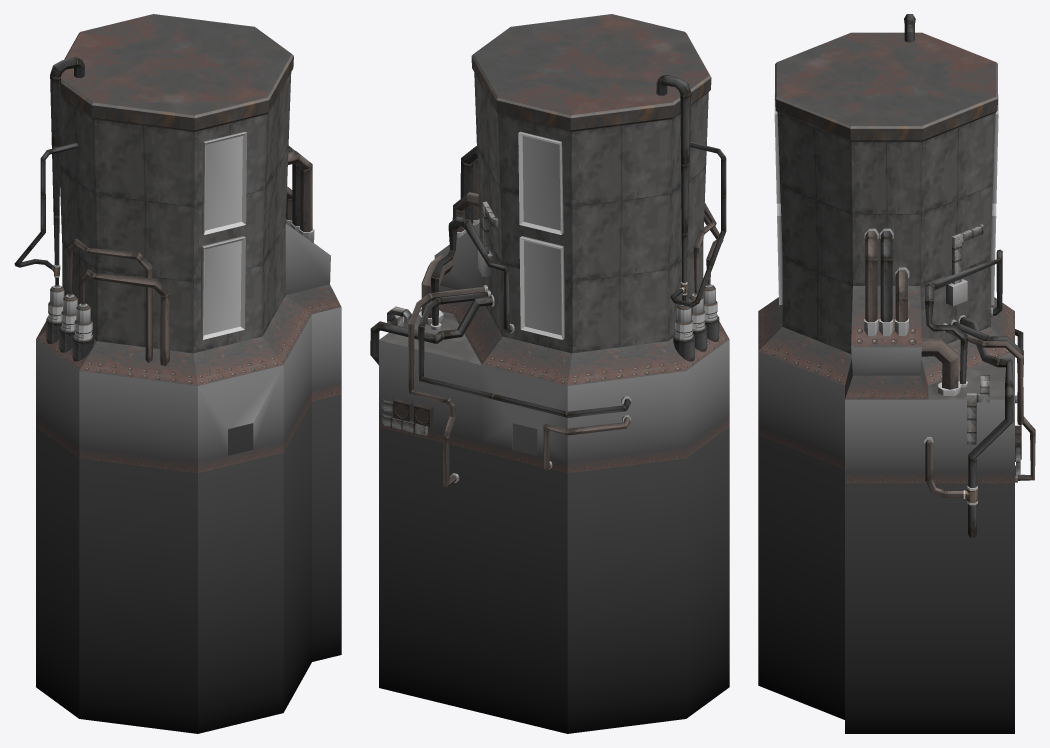
Rendered from factory_lobby.fbx.
3 renders of one model, left to right at view 1: azimuth 30°, elevation 25°; view 2: azimuth 150°, elevation 25°; view 3: azimuth 270°, elevation 25°, orthographic. The views are drawn at different scales.
Parts seen in each view (by area): view 1: Building, Pipes, Turbine; view 2: Building, Pipes, Turbine, Vents, FansCases; view 3: Building, Pipes, Vents, PipeBearings.
Part boxes in pixels (x1,y1,x2,y2): Building: (36,14,341,733); Pipes: (14,57,312,366); Turbine: (46,285,94,361); Building: (379,14,729,733); Pipes: (370,75,726,487); Turbine: (673,283,719,361); Vents: (382,201,498,435); FansCases: (393,398,433,426); Building: (758,32,1014,733); Pipes: (865,14,1035,537); Vents: (946,224,1020,476); PipeBearings: (864,228,1017,482).
Size of the model in its own units: 5232 by 10821 by 4501.
